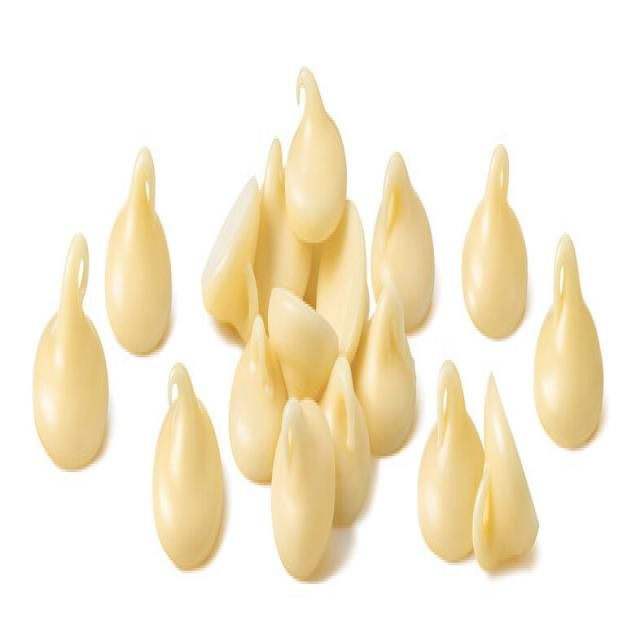Chocolate: (36, 50, 606, 562)
